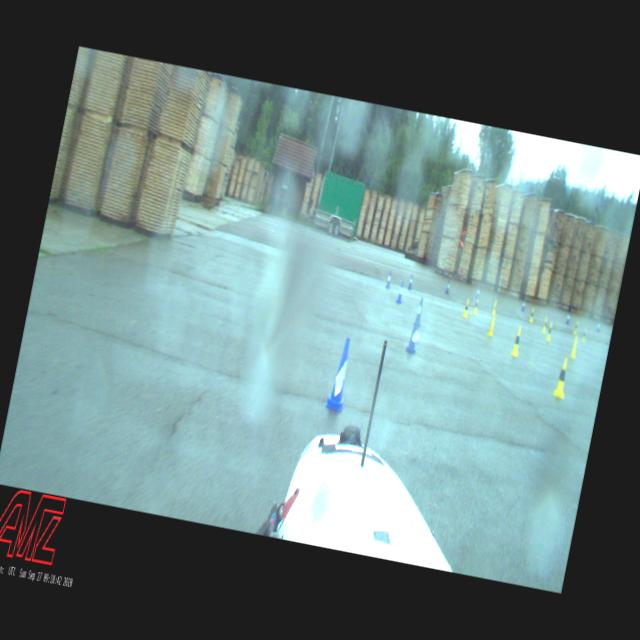blue_cone: (324, 336, 357, 412), (404, 316, 423, 354), (413, 298, 426, 326), (396, 281, 406, 303), (385, 271, 393, 288), (408, 274, 414, 290)
yellow_cone: (552, 358, 572, 398), (511, 327, 524, 357), (486, 314, 496, 336), (570, 336, 580, 358), (462, 298, 471, 318), (546, 322, 554, 342), (472, 298, 480, 314), (541, 316, 548, 334), (529, 309, 535, 322)
